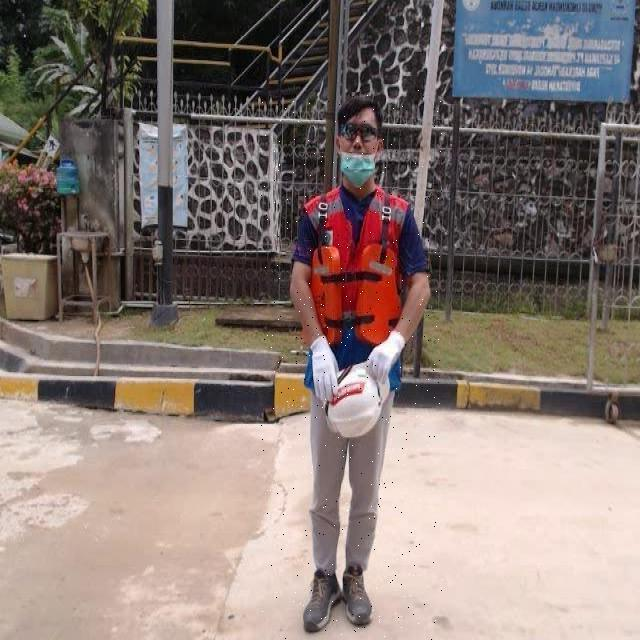gloves: (364, 329, 405, 385), (309, 335, 339, 402)
goggles: (339, 124, 376, 142)
helmet: (321, 363, 392, 439)
safety_vest: (302, 186, 410, 390)
